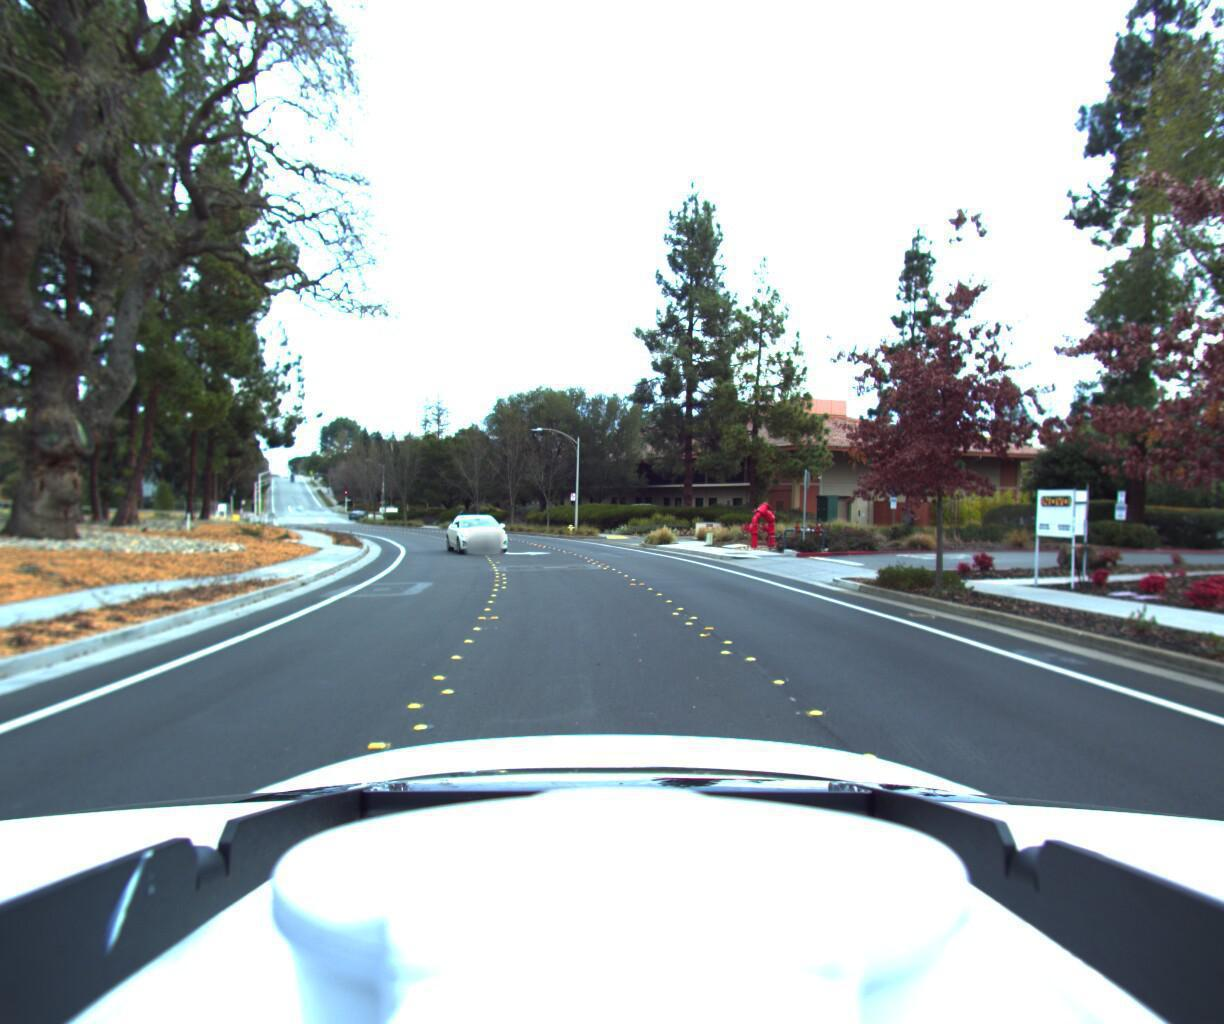car: (437, 510, 512, 556)
